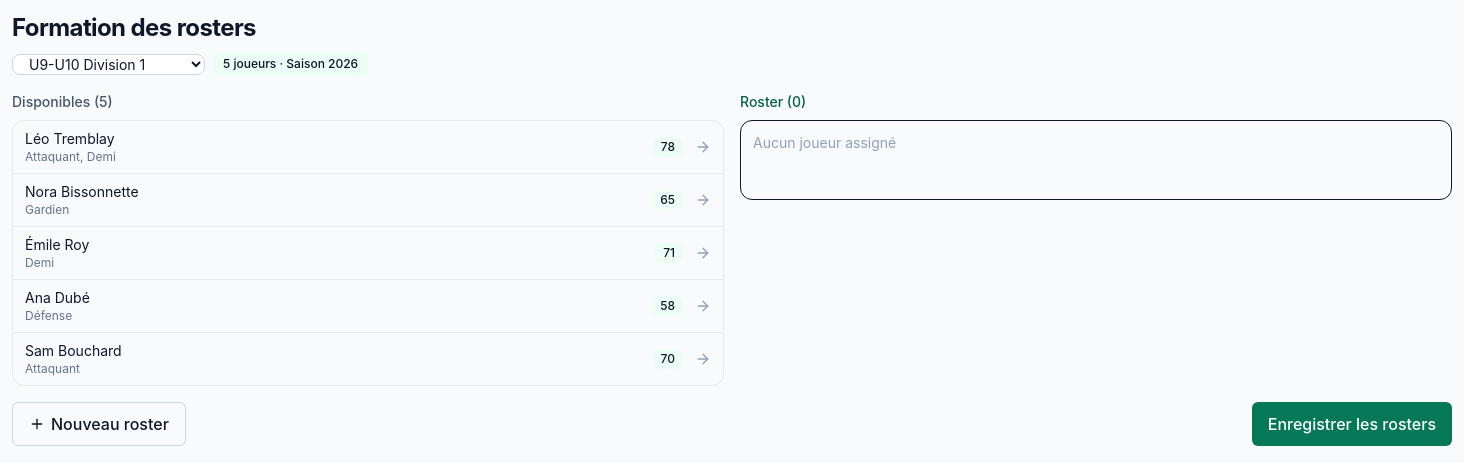
Test case: RosterBuilderPage › renders pool players and moves player between lists
The image size is (1464, 463).
Check: the heading "Formation des rosters" is shown, box x1=12 y1=13 x2=256 y2=42
// Ajoute un joueur au roster
Click the button named "ajouter" at point(703, 147), box x1=695 y1=139 x2=711 y2=155
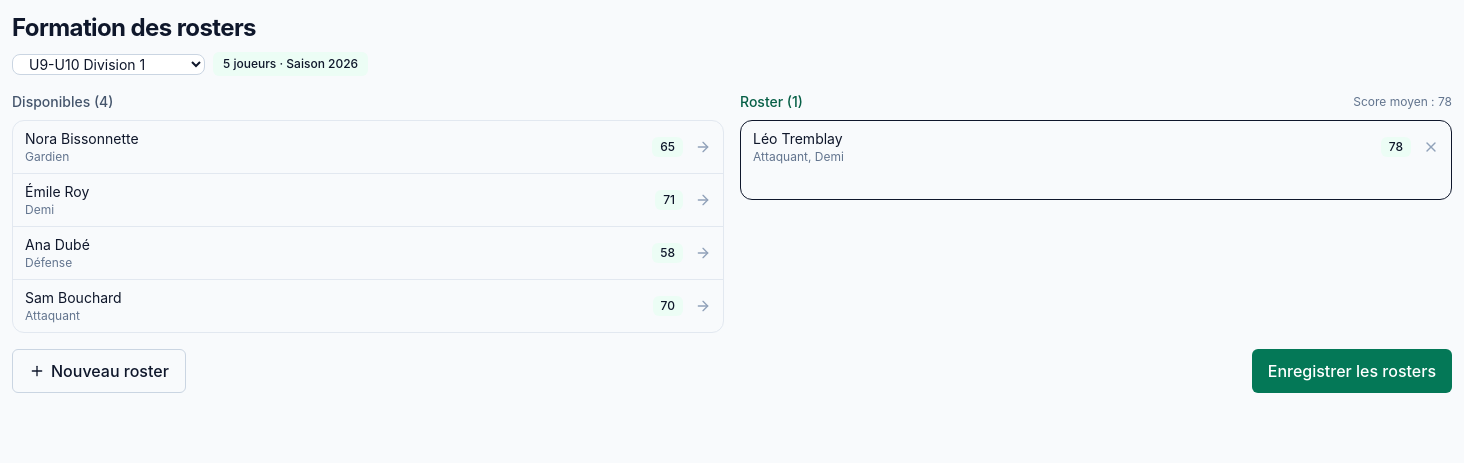
Check: the button named "retirer" is shown, box x1=1423 y1=139 x2=1439 y2=155
